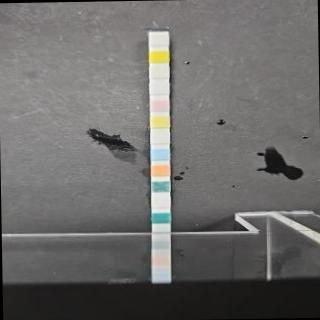mark: (150, 131, 170, 144), (150, 114, 170, 127), (149, 82, 169, 95), (149, 66, 169, 79), (150, 32, 168, 46), (150, 164, 170, 176), (150, 148, 170, 160), (148, 51, 168, 63), (150, 181, 170, 192), (150, 98, 168, 110), (151, 196, 170, 207), (152, 212, 170, 222)
